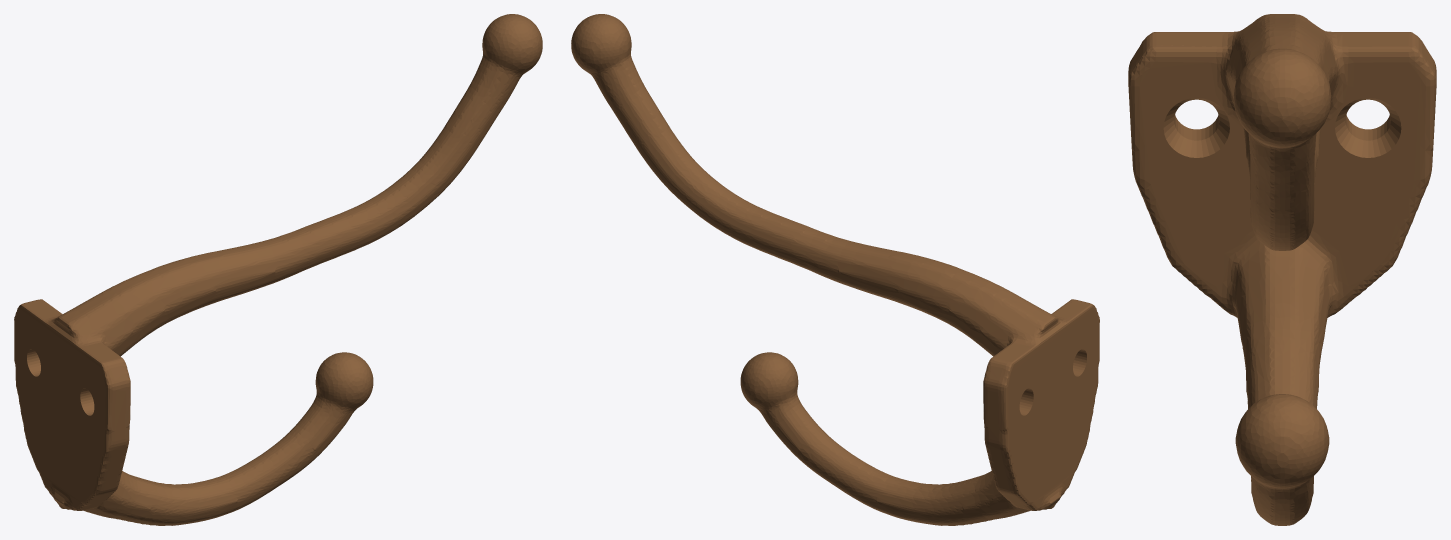
3 views of the same model, side by side, from view 1: azimuth 30°, elevation 25°; view 2: azimuth 150°, elevation 25°; view 3: azimuth 270°, elevation 25° (orthographic). The views are drawn at different scales.
Parts seen in each view (by area): view 1: NEW547_Continuous_double_hook_casting; view 2: NEW547_Continuous_double_hook_casting; view 3: NEW547_Continuous_double_hook_casting.
Boxes of the visible parts, x1,y1,x2,y2 form: NEW547_Continuous_double_hook_casting: [14, 14, 542, 525]; NEW547_Continuous_double_hook_casting: [571, 14, 1099, 525]; NEW547_Continuous_double_hook_casting: [1128, 14, 1436, 525].
Size of the model in its own units: 0.0825 by 0.0698 by 0.0286.
